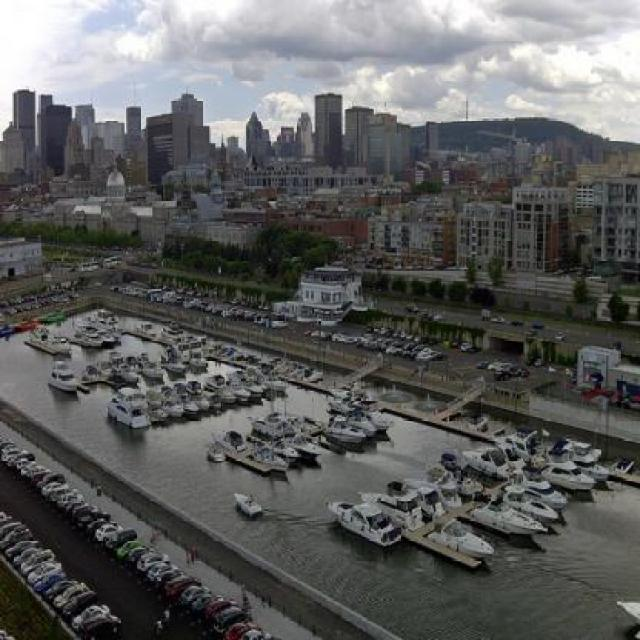ship: (323, 498, 399, 545), (253, 378, 290, 473), (355, 478, 422, 528), (327, 395, 391, 430), (104, 386, 150, 426), (24, 329, 70, 354), (280, 431, 322, 458), (325, 413, 364, 442), (46, 358, 79, 392), (107, 350, 141, 382), (204, 373, 236, 402), (158, 384, 184, 419), (208, 428, 248, 449), (143, 386, 168, 419), (173, 381, 198, 414), (137, 350, 165, 378), (232, 489, 263, 514), (187, 380, 210, 411), (84, 308, 119, 328), (159, 347, 186, 371), (74, 325, 103, 346), (242, 369, 263, 398), (227, 375, 251, 400), (262, 368, 286, 392), (159, 317, 183, 340), (88, 325, 114, 344), (206, 444, 226, 462), (188, 350, 208, 367), (134, 320, 155, 335)
